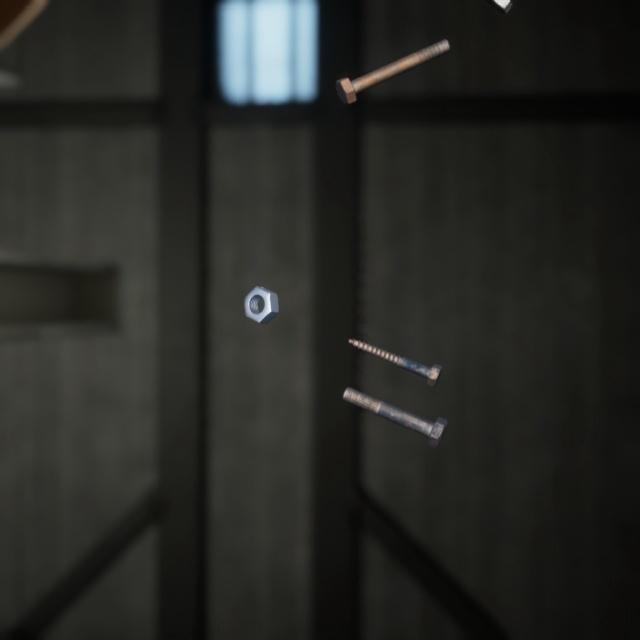bolt: (331, 25, 454, 99), (337, 363, 452, 433), (344, 316, 447, 373)
nut: (239, 263, 283, 310)
